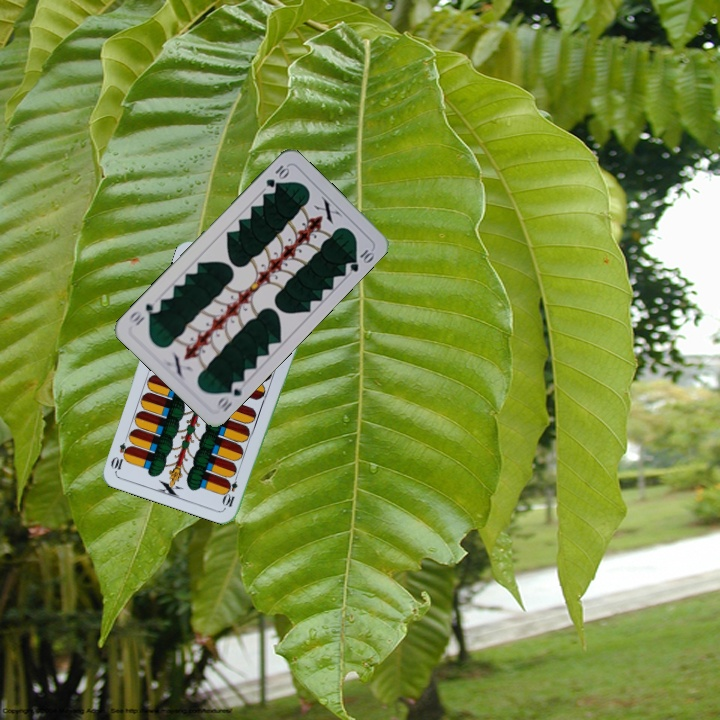E10: (220, 469, 241, 509)
G10: (212, 377, 245, 415), (262, 161, 292, 190)
